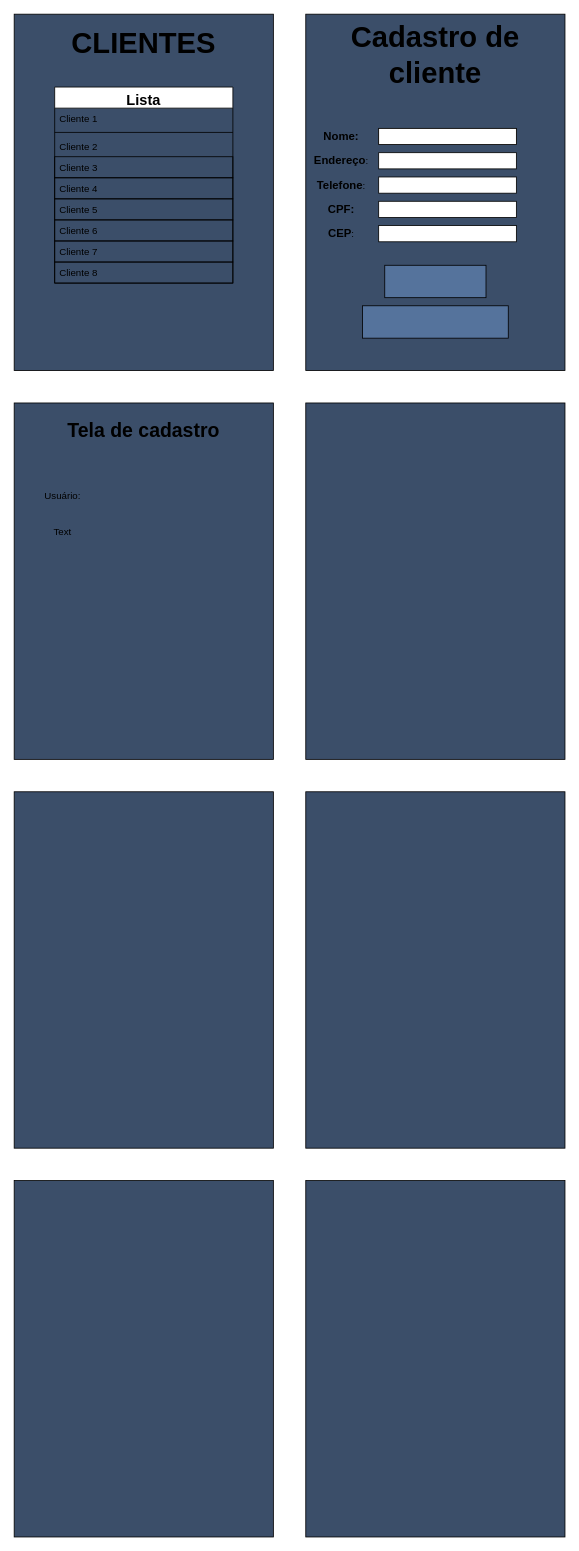
Some shapes in this 579 by 1551 pixel diagram are drawn without their labels. The shapes that lost their labels are listed below. From the top down, each one's centre as x and y in pixels, then its label:
point 435,281: SALVAR
point 435,321: CANCELAR
